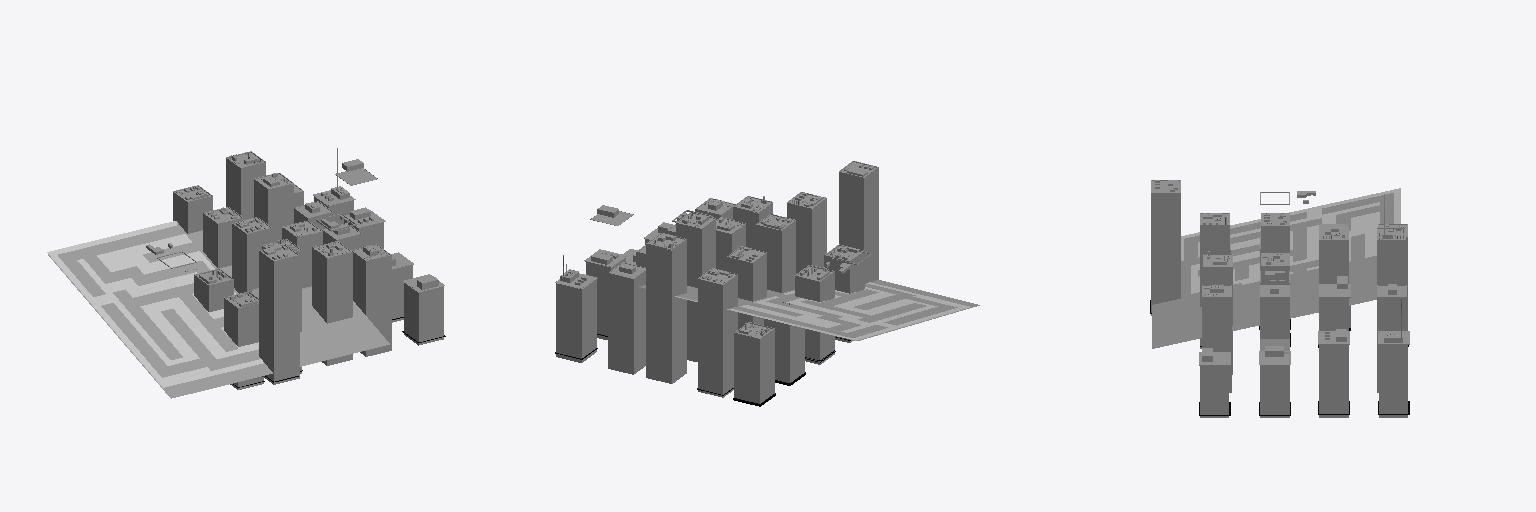
Rendered from aBigCity.obj.
3 renders of one model, left to right at view 1: azimuth 30°, elevation 25°; view 2: azimuth 150°, elevation 25°; view 3: azimuth 270°, elevation 25°, orthographic.
Visible parts, largest first — view 1: Plane.001, Plane, Cube.017_Cube.000, Cube.025_Cube.048, Cube.027_Cube.024, Cube.030_Cube.031, Fan.010_Cylinder.040, Cube.005_Cube.049, Cube.026_Cube.023, Cube.021_Cube.040, Cylinder.014_Cylinder.052, Cylinder.010_Cylinder.060 (+7 smaller); view 2: Cube.026_Cube.023, Cylinder.010_Cylinder.060, Plane.001, Cube.028_Cube.043, Cube.017_Cube.000, Cube.029_Cube.045, Plane, Cylinder.003_Cylinder.024, Cube.005_Cube.049, Fan.010_Cylinder.040, Fan.003_Cylinder.027, Cylinder.014_Cylinder.052 (+8 smaller); view 3: Plane.001, Plane, Cube.017_Cube.000, Cube.020_Cube.022, Cube.029_Cube.045, Cube.018_Cube.041, Cube.027_Cube.024, Cube.030_Cube.031, Cube.026_Cube.023, Cube.005_Cube.049, Cube.010_Cube.014, Cube.028_Cube.043 (+5 smaller).
Part boxes in pixels (x1,y1,x2,y2): Plane.001: (48,222,389,398); Plane: (47,221,263,387); Cube.017_Cube.000: (259,244,299,384); Cube.025_Cube.048: (312,241,352,365); Cube.027_Cube.024: (351,244,391,356); Cube.030_Cube.031: (402,274,445,345); Fan.010_Cylinder.040: (232,217,271,293); Cube.005_Cube.049: (254,173,293,242); Cube.026_Cube.023: (226,151,265,219); Cube.021_Cube.040: (224,291,264,389); Cylinder.014_Cylinder.052: (203,207,243,268); Cylinder.010_Cylinder.060: (173,185,212,233); Cube.026_Cube.023: (646,233,686,383); Cylinder.010_Cylinder.060: (697,268,737,397); Plane.001: (639,280,979,340); Cube.028_Cube.043: (608,262,645,374); Cube.017_Cube.000: (839,161,878,283); Cube.029_Cube.045: (555,255,597,362); Plane: (675,282,969,340); Cylinder.003_Cylinder.024: (733,322,775,406); Cube.005_Cube.049: (676,212,715,361); Fan.010_Cylinder.040: (756,214,795,292); Fan.003_Cylinder.027: (787,192,826,273); Cylinder.014_Cylinder.052: (727,246,766,329); Plane.001: (1152,193,1393,348); Plane: (1181,188,1400,293); Cube.017_Cube.000: (1150,180,1180,315); Cube.020_Cube.022: (1318,329,1349,417); Cube.029_Cube.045: (1378,299,1409,417); Cube.018_Cube.041: (1259,346,1290,417); Cube.027_Cube.024: (1202,284,1231,392); Cube.030_Cube.031: (1199,348,1230,417); Cube.026_Cube.023: (1377,194,1405,284); Cube.005_Cube.049: (1319,227,1348,283); Cube.010_Cube.014: (1260,285,1289,338); Cube.028_Cube.043: (1377,284,1406,392).
Size of the model in its own units: 23.27 by 13.63 by 17.51.